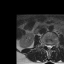CCS_normal: (48, 43, 50, 51)
LFS_stenosis: (52, 43, 54, 48)
LLS_normal: (50, 43, 52, 50)
RFS_normal: (44, 41, 46, 48)
RLS_normal: (46, 43, 48, 50)
